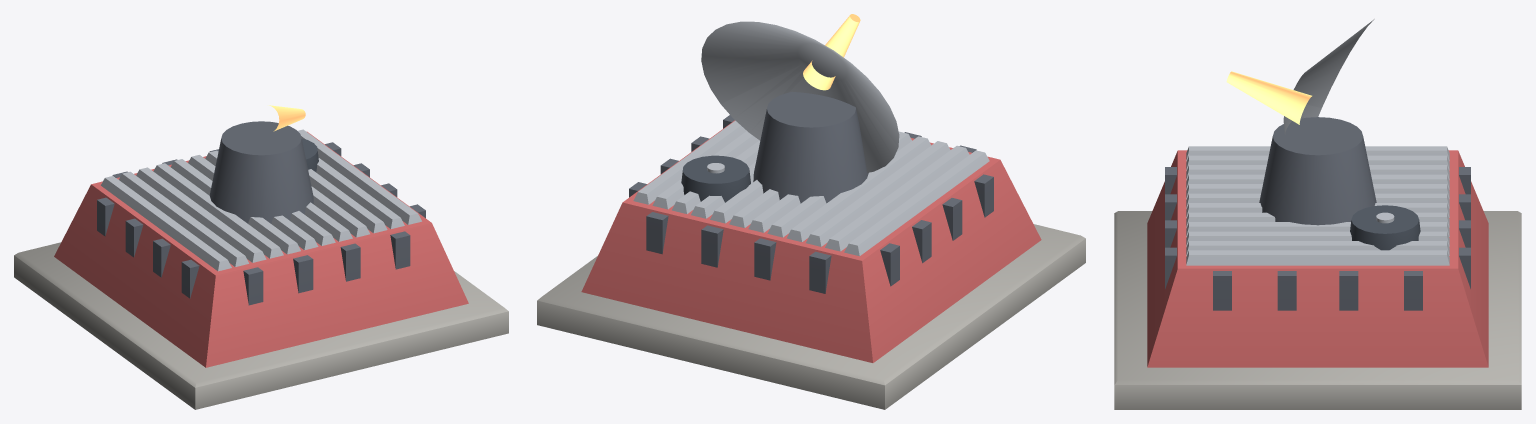
The model's file is naradr.glb.
3 renders of one model, left to right at view 1: azimuth 30°, elevation 25°; view 2: azimuth 150°, elevation 25°; view 3: azimuth 270°, elevation 25°, orthographic. The views are drawn at different scales.
Visible parts, largest first — view 1: Hull, Rotor; view 2: Hull, Rotor; view 3: Hull, Rotor.
Boxes of the visible parts, box(x1,y1,x2,y2) form: Hull: box(14, 129, 508, 409); Rotor: box(221, 105, 305, 155); Hull: box(537, 64, 1085, 409); Rotor: box(701, 14, 899, 161); Hull: box(1114, 104, 1521, 409); Rotor: box(1226, 19, 1374, 155).
Size of the model in its own units: 3.24 by 2.62 by 3.24.
